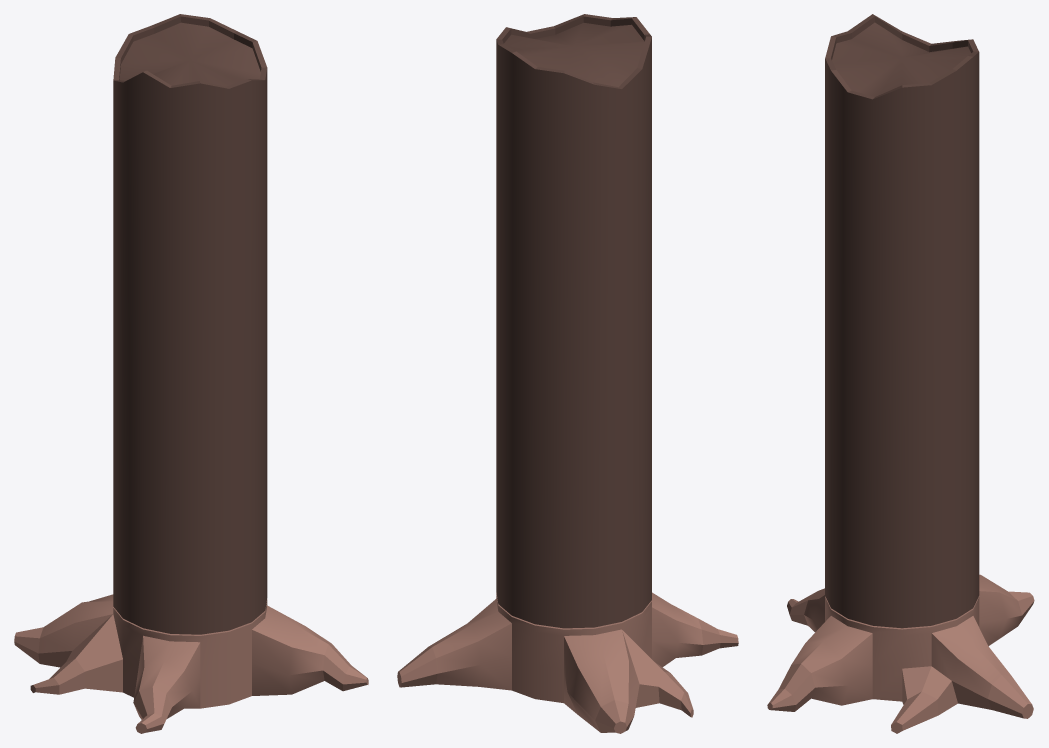
The model's file is Tronquito.fbx.
3 renders of one model, left to right at view 1: azimuth 30°, elevation 25°; view 2: azimuth 150°, elevation 25°; view 3: azimuth 270°, elevation 25°, orthographic. The views are drawn at different scales.
Visible parts, largest first — view 1: pCylinder2, pCylinder1; view 2: pCylinder2, pCylinder1; view 3: pCylinder2, pCylinder1.
Part boxes in pixels (x1=…): pCylinder2: x1=113, y1=14, x2=267, y2=634; pCylinder1: x1=14, y1=594, x2=368, y2=733; pCylinder2: x1=496, y1=14, x2=651, y2=628; pCylinder1: x1=397, y1=592, x2=738, y2=733; pCylinder2: x1=825, y1=14, x2=979, y2=628; pCylinder1: x1=767, y1=574, x2=1034, y2=733.
Size of the model in its own units: 3.86 by 9.04 by 3.47.
